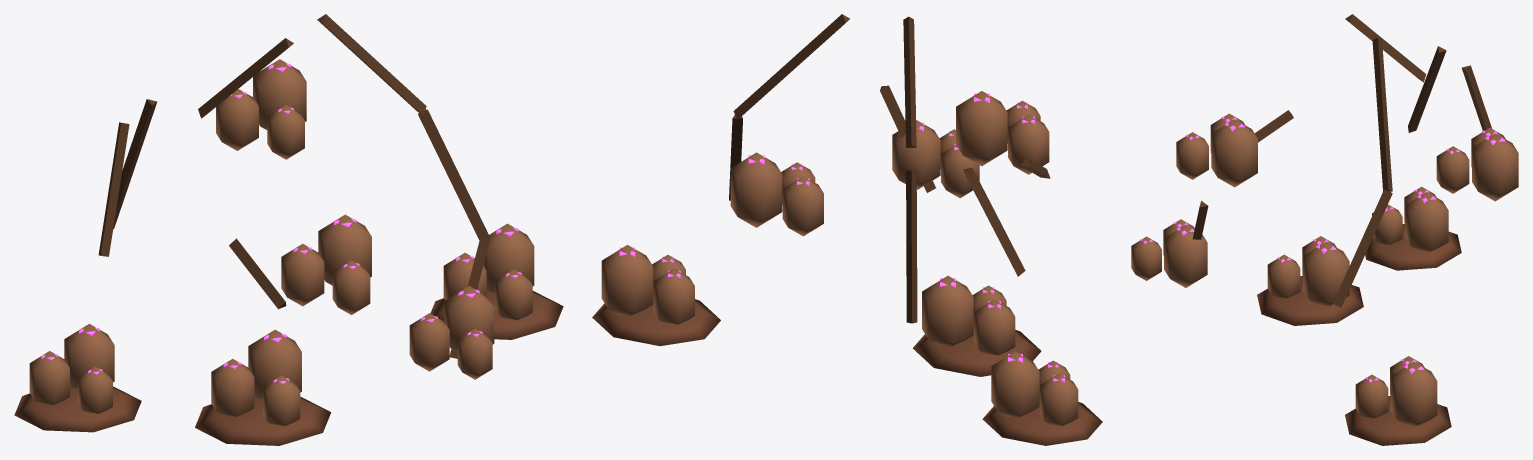
Rendered from overworld-settlement-eggs-latin-american-city.glb.
3 renders of one model, left to right at view 1: azimuth 30°, elevation 25°; view 2: azimuth 150°, elevation 25°; view 3: azimuth 270°, elevation 25°, orthographic. The views are drawn at different scales.
Parts seen in each view (by area): view 1: settlement_eggs; view 2: settlement_eggs; view 3: settlement_eggs.
Part boxes in pixels (box(x1,y1,x2,y2)): settlement_eggs: box(14, 14, 563, 445); settlement_eggs: box(592, 14, 1102, 445); settlement_eggs: box(1131, 14, 1518, 445).
Size of the model in its own units: 0.5645 by 0.3635 by 0.4158.
